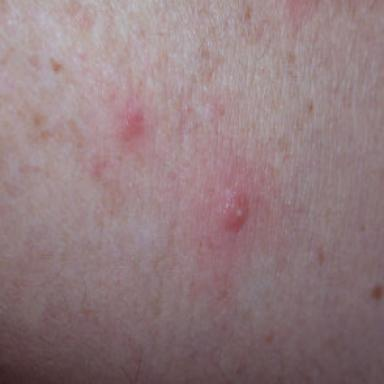acne: (225, 194, 249, 231), (122, 110, 143, 140)
